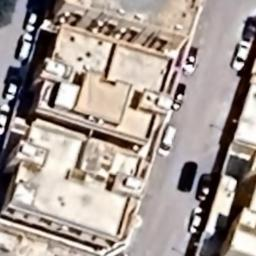sedan: (228, 38, 252, 76), (184, 204, 208, 238), (194, 170, 214, 205), (4, 74, 22, 104), (24, 8, 44, 34), (1, 100, 11, 136)
unknown: (175, 158, 198, 194)
van: (156, 122, 180, 158), (18, 30, 34, 64)
